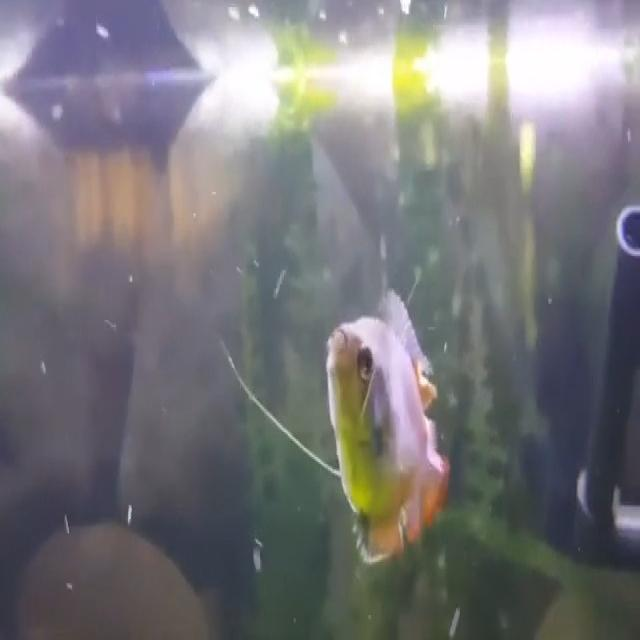fish: (324, 284, 454, 564)
